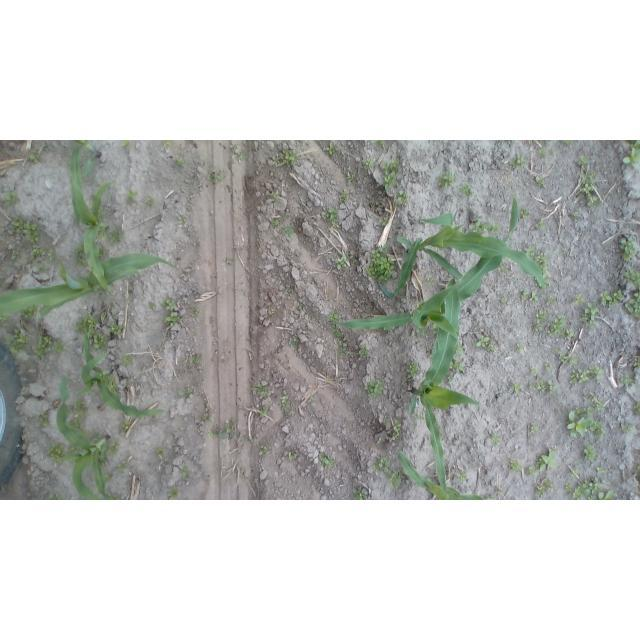Maize: (332, 194, 521, 336), (408, 275, 480, 491), (378, 211, 542, 300), (2, 254, 181, 316), (58, 376, 117, 500), (81, 329, 164, 416), (396, 451, 496, 499), (70, 180, 110, 294), (70, 140, 104, 181)
Weeds: (365, 244, 396, 285), (572, 475, 608, 500), (1, 328, 29, 356), (33, 334, 63, 360), (10, 218, 41, 243), (578, 169, 599, 204), (567, 412, 593, 440), (546, 316, 574, 340), (206, 417, 236, 439), (381, 158, 400, 191), (536, 448, 562, 472), (580, 303, 600, 332), (573, 398, 605, 415), (620, 237, 639, 265), (384, 467, 405, 490), (74, 315, 99, 333), (332, 249, 352, 271), (321, 206, 340, 229), (622, 140, 640, 164), (364, 379, 384, 400), (533, 475, 554, 495), (600, 290, 625, 306), (270, 149, 296, 164), (625, 293, 640, 319), (527, 380, 557, 393), (46, 442, 65, 462), (621, 268, 640, 288), (371, 458, 392, 475), (92, 330, 109, 350), (208, 166, 228, 183), (437, 171, 455, 189), (468, 219, 488, 234), (407, 360, 422, 380), (559, 351, 580, 365), (569, 368, 587, 384), (251, 381, 269, 397), (317, 452, 335, 468), (2, 189, 19, 205), (587, 365, 605, 380), (278, 222, 294, 238), (70, 401, 86, 417), (36, 410, 51, 427), (391, 419, 402, 442), (536, 252, 548, 272), (106, 322, 123, 336), (163, 313, 181, 326), (74, 246, 85, 267), (353, 485, 368, 500), (511, 152, 525, 168), (125, 189, 137, 207), (585, 444, 596, 463), (109, 228, 122, 244), (114, 460, 130, 473), (22, 308, 39, 320), (597, 489, 615, 500), (459, 184, 474, 197), (449, 361, 464, 374), (46, 244, 56, 263), (337, 190, 351, 203), (397, 190, 409, 205), (231, 145, 243, 160), (280, 396, 290, 413), (510, 460, 523, 473), (570, 294, 583, 307), (476, 336, 490, 348), (537, 310, 548, 325), (345, 173, 356, 188), (123, 354, 136, 366), (358, 345, 370, 358), (259, 444, 270, 458), (203, 410, 217, 421), (620, 375, 634, 386), (623, 424, 637, 435), (456, 469, 467, 483), (29, 247, 44, 257), (168, 487, 179, 500), (593, 422, 604, 435), (528, 421, 539, 433), (326, 312, 337, 324), (455, 343, 465, 356), (288, 336, 297, 350), (287, 451, 298, 462), (524, 247, 539, 255), (165, 299, 175, 311), (269, 217, 279, 229), (267, 190, 279, 200), (257, 406, 267, 418), (332, 327, 344, 337), (520, 290, 529, 303), (1, 314, 14, 323), (67, 419, 81, 427), (180, 387, 194, 395), (363, 159, 373, 170), (491, 223, 502, 233), (188, 353, 198, 364), (545, 295, 555, 306), (521, 207, 531, 217), (543, 361, 553, 371), (525, 465, 536, 474), (325, 146, 336, 155), (565, 482, 574, 493), (415, 328, 426, 337), (379, 218, 391, 226), (98, 246, 106, 258), (531, 291, 538, 304), (580, 155, 589, 165), (182, 467, 191, 477), (121, 140, 131, 149), (155, 447, 165, 456), (121, 422, 131, 431), (37, 261, 46, 271), (162, 140, 171, 150), (570, 469, 579, 479), (337, 346, 347, 355), (512, 383, 521, 393), (414, 412, 425, 420), (538, 148, 547, 157), (535, 221, 545, 229), (104, 473, 114, 481), (426, 276, 436, 284), (491, 436, 501, 444), (596, 467, 606, 475), (536, 176, 545, 184), (52, 492, 61, 500), (284, 286, 293, 294), (224, 257, 233, 265), (176, 216, 184, 225), (498, 267, 507, 275), (28, 154, 38, 161), (633, 357, 640, 367), (147, 300, 155, 308), (498, 488, 506, 496), (562, 140, 572, 146), (372, 140, 384, 145), (176, 159, 184, 166), (516, 342, 523, 350), (445, 375, 453, 382), (634, 404, 640, 413), (268, 309, 277, 315), (530, 366, 539, 372), (112, 440, 119, 447), (533, 324, 540, 331), (145, 197, 151, 204), (376, 439, 382, 446), (570, 212, 578, 217), (113, 495, 121, 500), (583, 393, 588, 401), (551, 348, 559, 353), (328, 376, 334, 382), (194, 308, 199, 315), (489, 345, 496, 350), (637, 461, 640, 472), (506, 140, 514, 144), (500, 299, 506, 304), (551, 148, 556, 153), (563, 249, 569, 253), (240, 205, 244, 210), (564, 457, 567, 462)
